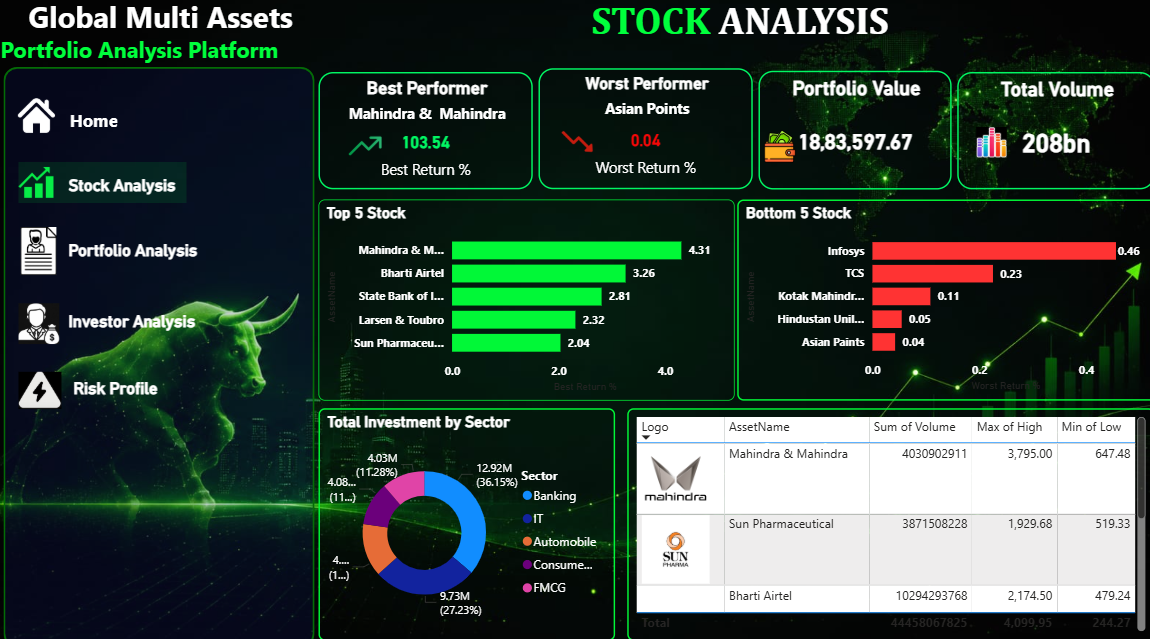

The dashboard page shown, as its layout file describes it:
{"tool":"powerbi","page":{"name":"Stock Analysis ","canvas":[1280,720],"ordinal":1},"visuals":[{"type":"textbox","box":[0,0,370.5,115.3],"z":0},{"type":"image","box":[25.3,187,38.6,44.6],"z":0,"group":"g1"},{"type":"actionButton","title":"Portfolio Analysis","box":[80.8,273.9,159.3,24.1],"z":0,"group":"g2"},{"type":"actionButton","title":"Investor Analysis","box":[80.8,351.1,167.7,29],"z":0,"group":"g4"},{"type":"actionButton","title":"Risk Profile","box":[85.6,423.5,100.1,24.1],"z":0,"group":"g3"},{"type":"clusteredColumnChart","title":"Tranding Volume by Stock","fields":{"Category":["Dim_Assets.AssetName"],"Y":["Sum(Fact_Stock.Volume)"]},"box":[354,461.1,561.2,247],"z":0,"group":"g7"},{"type":"shape","box":[8.4,83,341.4,637],"z":1000},{"type":"actionButton","title":"Stock Analysis","box":[80.8,201.5,127.9,29],"z":1000,"group":"g1"},{"type":"image","box":[25.3,258.2,44.6,53.1],"z":1000,"group":"g2"},{"type":"image","box":[25.3,331.8,44.6,63.9],"z":1000,"group":"g4"},{"type":"image","box":[25.3,409,47.1,56.7],"z":1000,"group":"g3"},{"type":"treemap","title":"Sector  Distribution (By InvestmentValue","fields":{"Group":["Dim_Assets.Sector"],"Values":["Measure.Total Investment"]},"box":[923.5,461.1,347.2,247],"z":1000,"group":"g7"},{"type":"card","title":"Best Performer","fields":{"Values":["Measure.Best Return %"]},"box":[354,86.4,199,129],"z":2000},{"type":"image","box":[19.2,115.3,50.8,41.2],"z":2000,"group":"g5"},{"type":"clusteredBarChart","title":"Top 5 Stock''s by Return %","fields":{"Category":["Dim_Assets.AssetName"],"Y":["Measure.Best Return %"]},"box":[805.5,223.7,469.3,227.8],"z":2000,"group":"g6"},{"type":"actionButton","box":[49.5,121.9,115.8,37.4],"z":3000,"group":"g5"},{"type":"image","box":[370.4,150.8,70,36.2],"z":3000},{"type":"image","box":[564,145.5,63.1,37],"z":4000},{"type":"card","title":"Worst Performer","fields":{"Values":["Measure.Worst Return %"]},"box":[558.5,86.4,170.2,127.6],"z":5000},{"type":"image","box":[739.3,142.7,27.4,39.8],"z":6000},{"type":"image","box":[932.1,115.3,46.7,98.8],"z":7000},{"type":"card","title":"Portfolio Value","fields":{"Values":["Measure.Portfolio Value"]},"box":[735.5,86.4,190.7,129],"z":8000},{"type":"group","id":"g1","title":"Group 1","box":[25.3,187,183.4,44.6],"z":9000},{"type":"group","id":"g2","title":"Group 2","box":[25.3,258.2,214.7,53.1],"z":10000},{"type":"card","title":"Total Volume","fields":{"Values":["Measure.Total volume"]},"box":[931.7,86.4,174.3,129],"z":11000},{"type":"group","id":"g3","title":"Group 5","box":[25.3,409,160.5,56.7],"z":12000},{"type":"group","id":"g4","title":"Group 4","box":[25.3,331.8,223.2,63.9],"z":13000},{"type":"group","id":"g5","title":"Group 6","box":[19.2,115.3,146.1,44],"z":14000},{"type":"textbox","box":[370.5,0,909.8,68.6],"z":15000},{"type":"card","title":"Total Stock","fields":{"Values":["Measure.Best Performing Stock"]},"box":[1114.2,86.4,161.9,129],"z":16000},{"type":"image","box":[1121.1,119.4,48,83.7],"z":17000},{"type":"group","id":"g6","title":"Group 3","box":[354,223.7,920.8,227.8],"z":18000},{"type":"group","id":"g7","title":"Group 7","box":[354,461.1,916.6,247],"z":19000},{"type":"lineChart","title":"Stock Price Trend (Closing Price)","fields":{"Category":["Fact_Stock.Date"],"Y":["Sum(Fact_Stock.Close)"]},"box":[354,226.4,446,225],"z":20002,"group":"g6"}]}

Visuals, with their boxes in screenshot pixels (x1, y1, x2, y2), scaled from the page's 1280x720 canvas onto the 1150x639 screenshot:
textbox: region(0, 0, 333, 102)
image: region(23, 166, 57, 206)
"Portfolio Analysis" actionButton: region(73, 243, 216, 264)
"Investor Analysis" actionButton: region(73, 312, 223, 337)
"Risk Profile" actionButton: region(77, 376, 167, 397)
"Tranding Volume by Stock" clusteredColumnChart: region(318, 409, 822, 628)
shape: region(8, 74, 314, 638)
"Stock Analysis" actionButton: region(73, 179, 188, 205)
image: region(23, 229, 63, 276)
image: region(23, 294, 63, 351)
image: region(23, 363, 65, 413)
"Sector  Distribution (By InvestmentValue" treemap: region(830, 409, 1142, 628)
"Best Performer" card: region(318, 77, 497, 191)
image: region(17, 102, 63, 139)
"Top 5 Stock''s by Return %" clusteredBarChart: region(724, 199, 1145, 401)
actionButton: region(44, 108, 149, 141)
image: region(333, 134, 396, 166)
image: region(507, 129, 563, 162)
"Worst Performer" card: region(502, 77, 655, 190)
image: region(664, 127, 689, 162)
image: region(837, 102, 879, 190)
"Portfolio Value" card: region(661, 77, 832, 191)
"Group 1" group: region(23, 166, 188, 206)
"Group 2" group: region(23, 229, 216, 276)
"Total Volume" card: region(837, 77, 994, 191)
"Group 5" group: region(23, 363, 167, 413)
"Group 4" group: region(23, 294, 223, 351)
"Group 6" group: region(17, 102, 149, 141)
textbox: region(333, 0, 1149, 61)
"Total Stock" card: region(1001, 77, 1146, 191)
image: region(1007, 106, 1050, 180)
"Group 3" group: region(318, 199, 1145, 401)
"Group 7" group: region(318, 409, 1142, 628)
"Stock Price Trend (Closing Price)" lineChart: region(318, 201, 719, 401)
